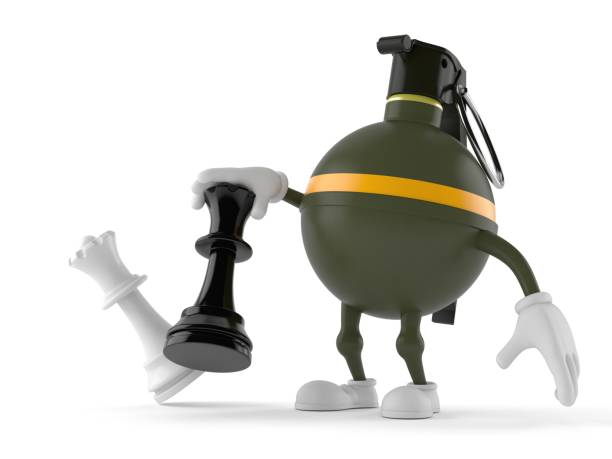e1: (295, 28, 501, 318)
